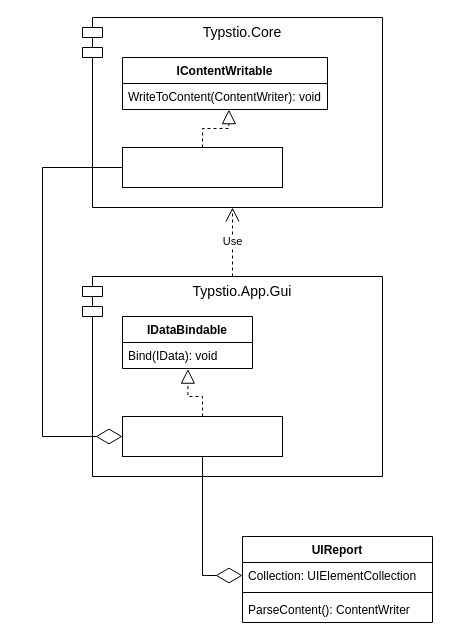
This 450x643 diagram has some shape labels left out. Here are the shapes that lost their labels. From the top down, the centre of each, then its label:
(x=202, y=167): Element ( Typst function )
(x=202, y=436): Element ( UI Wrapper )
